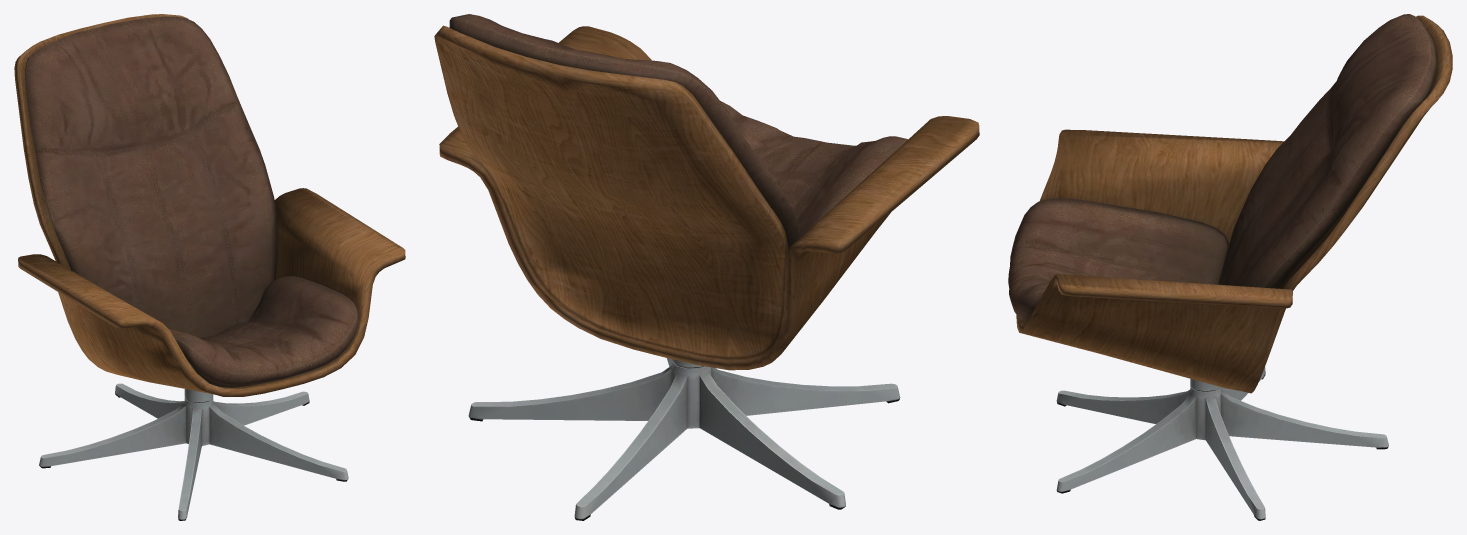
The model's file is lounge-chair.glb.
3 views of the same model, side by side, from view 1: azimuth 30°, elevation 25°; view 2: azimuth 150°, elevation 25°; view 3: azimuth 270°, elevation 25° (orthographic). The views are drawn at different scales.
Parts seen in each view (by area): view 1: mid_century_lounge_chair; view 2: mid_century_lounge_chair; view 3: mid_century_lounge_chair.
Part boxes in pixels (x1,y1,x2,y2): mid_century_lounge_chair: (14,14,405,520); mid_century_lounge_chair: (434,14,979,520); mid_century_lounge_chair: (1008,14,1452,520).
Size of the model in its own units: 1.01 by 1.17 by 1.19.
Materials: 1 (1 with a texture image).
